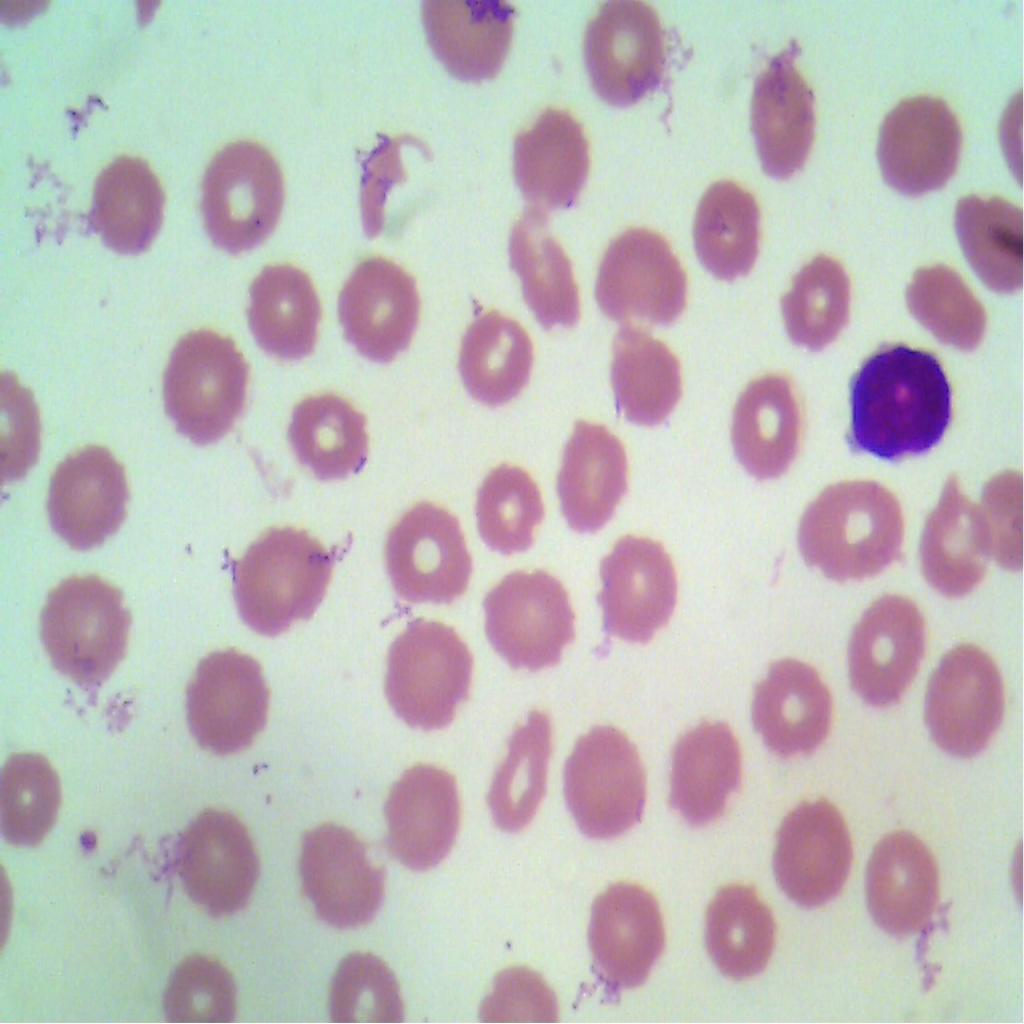Eritrosit: (374, 607, 495, 728), (796, 471, 914, 594), (23, 561, 136, 685), (228, 518, 334, 648), (378, 754, 478, 889), (188, 128, 289, 255), (39, 429, 133, 564), (586, 524, 694, 641), (833, 584, 938, 702), (155, 317, 251, 445), (82, 142, 176, 272), (175, 641, 269, 767), (744, 48, 828, 186), (678, 171, 776, 288), (176, 801, 266, 927), (869, 86, 971, 196), (291, 814, 386, 931), (499, 102, 594, 216), (921, 644, 1008, 768), (569, 711, 648, 847), (764, 792, 858, 904), (575, 4, 683, 100), (383, 495, 478, 604), (656, 718, 750, 828), (588, 227, 693, 324), (554, 417, 640, 534), (582, 878, 668, 994), (483, 699, 556, 835), (603, 319, 689, 434), (339, 248, 424, 364), (915, 481, 991, 610), (770, 238, 853, 354), (895, 255, 991, 355), (452, 305, 542, 411), (754, 654, 846, 757), (461, 458, 559, 554), (283, 385, 378, 484), (736, 367, 813, 487), (863, 823, 941, 941), (417, 0, 519, 85), (701, 862, 771, 985), (481, 570, 568, 664), (0, 746, 73, 858), (950, 181, 1024, 287), (243, 272, 326, 365), (322, 938, 408, 1023), (518, 236, 586, 330), (154, 950, 238, 1023)
Limfoblast: (842, 334, 952, 467)
Platelet: (68, 811, 106, 864)
